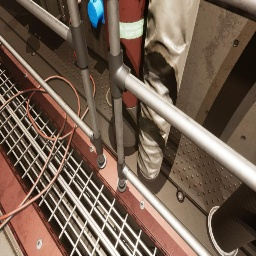NitrogenTank ,: (103, 0, 149, 148)
